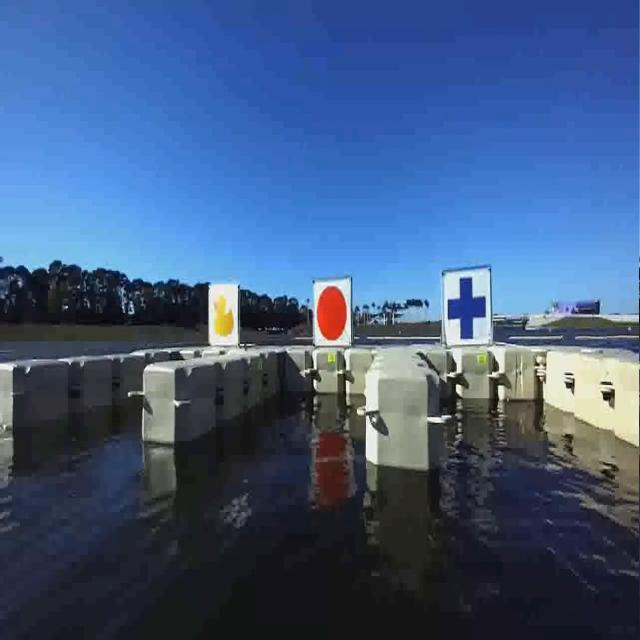blue-cross: (442, 266, 495, 348)
red-dot: (310, 276, 356, 350)
yellow-duck: (207, 288, 240, 350)
